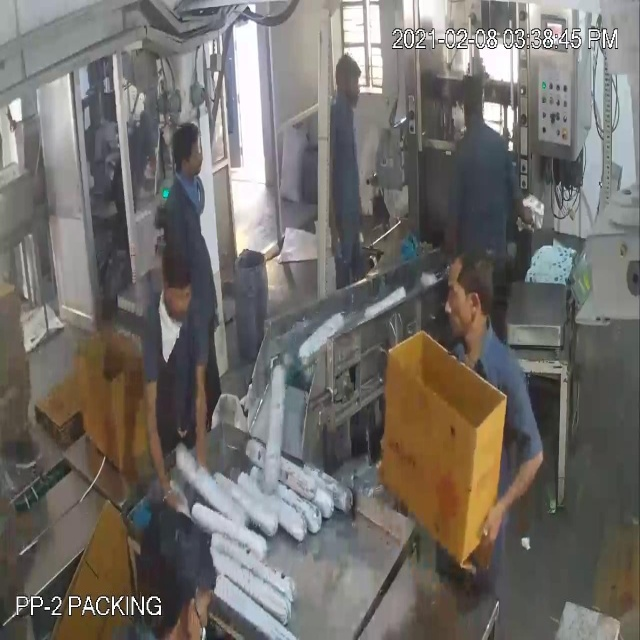Sin_guantes: (469, 430, 545, 571), (141, 346, 173, 506), (184, 324, 215, 486)
